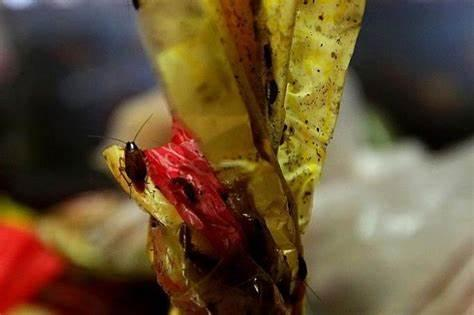cockroach: (116, 138, 148, 187), (296, 250, 310, 284), (178, 220, 192, 250), (264, 78, 279, 102)
